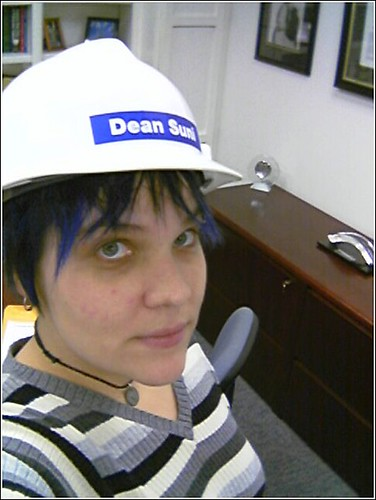person hardhat: (1, 35, 242, 390)
